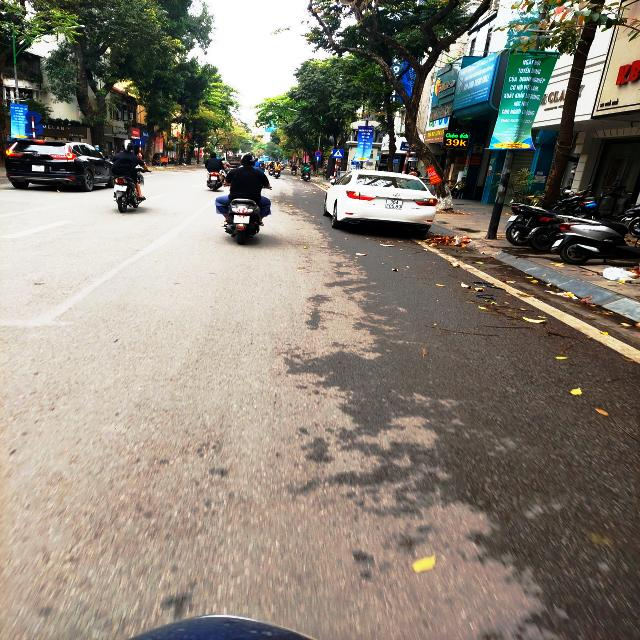license_plate: (386, 200, 404, 211), (234, 215, 251, 225), (114, 185, 128, 193), (507, 216, 520, 223), (33, 166, 45, 173)
